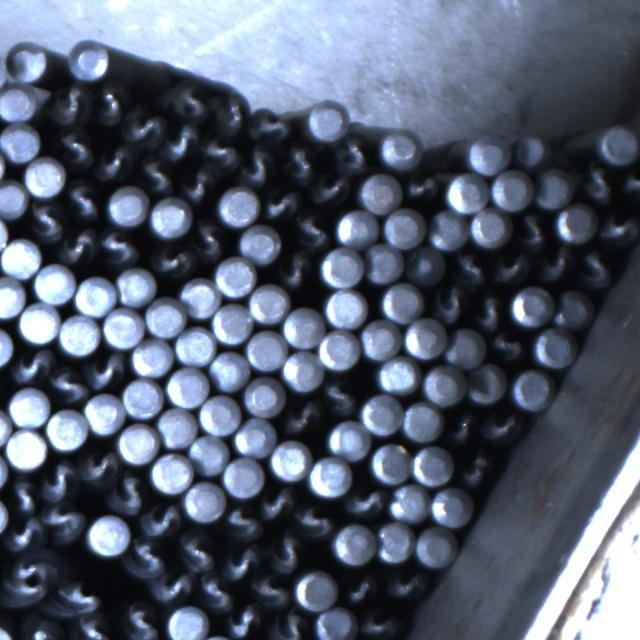tool: (305, 99, 349, 142), (377, 126, 422, 168), (87, 514, 131, 556), (358, 172, 402, 214), (33, 262, 76, 304), (69, 38, 112, 80), (6, 41, 49, 83), (424, 363, 468, 404), (360, 394, 404, 435), (310, 455, 354, 496), (326, 420, 371, 460), (75, 273, 117, 315), (146, 296, 188, 338), (511, 368, 553, 410), (411, 443, 454, 484), (281, 306, 324, 347), (166, 366, 209, 407), (150, 196, 193, 237), (332, 524, 376, 564), (466, 135, 510, 175), (23, 155, 65, 196), (60, 314, 101, 356), (510, 285, 552, 326), (430, 485, 472, 526), (369, 441, 410, 483), (17, 302, 59, 343), (250, 282, 292, 323), (404, 318, 446, 359), (182, 481, 224, 522), (223, 455, 265, 496), (383, 206, 425, 247), (47, 408, 89, 449), (490, 168, 532, 209), (296, 570, 338, 611), (319, 328, 361, 369), (362, 319, 403, 361), (381, 280, 423, 321), (151, 452, 194, 492), (445, 171, 488, 211), (321, 248, 364, 288), (325, 288, 368, 328), (102, 306, 143, 347), (218, 186, 259, 227), (403, 401, 444, 442), (444, 328, 485, 369), (84, 392, 124, 434), (598, 123, 640, 163), (216, 256, 258, 296), (9, 386, 51, 426), (374, 520, 414, 562), (118, 424, 160, 464), (239, 224, 281, 264), (387, 482, 429, 522), (534, 328, 576, 368), (335, 207, 378, 246), (233, 418, 276, 457), (123, 376, 164, 416), (282, 350, 323, 390), (7, 428, 47, 469), (107, 185, 147, 226), (199, 395, 240, 435), (270, 440, 311, 480), (247, 329, 287, 370), (555, 201, 596, 241), (189, 435, 229, 476), (156, 407, 196, 448), (416, 526, 457, 566), (425, 209, 466, 249), (131, 337, 173, 376), (116, 266, 156, 306), (244, 376, 284, 416), (211, 303, 251, 343), (364, 244, 404, 284), (0, 239, 40, 279), (0, 122, 40, 162), (180, 276, 220, 316), (378, 354, 420, 392), (209, 352, 248, 392), (471, 209, 510, 248), (174, 327, 214, 365), (533, 167, 571, 207), (166, 605, 208, 640), (315, 606, 357, 640), (0, 87, 36, 121), (516, 134, 550, 168), (0, 180, 28, 219), (0, 274, 25, 316), (0, 326, 14, 366), (0, 408, 11, 447), (0, 212, 9, 253), (0, 451, 8, 491), (0, 498, 8, 534)
tool_b: (0, 555, 50, 607), (44, 83, 91, 126), (124, 538, 167, 580), (40, 502, 83, 544), (551, 289, 594, 330), (208, 86, 248, 130), (96, 226, 139, 266), (56, 578, 102, 615), (199, 131, 240, 172), (39, 460, 78, 503), (0, 517, 43, 556), (577, 249, 617, 290), (172, 78, 212, 119), (122, 106, 164, 145), (177, 529, 216, 571), (291, 502, 334, 540), (138, 154, 176, 197), (56, 126, 94, 169), (64, 178, 102, 220), (596, 208, 638, 246), (577, 162, 615, 204), (267, 533, 305, 575), (478, 409, 522, 445), (50, 365, 90, 404), (79, 448, 119, 487), (224, 504, 264, 542), (26, 200, 64, 240), (278, 252, 316, 292), (310, 170, 351, 207), (250, 107, 291, 144), (280, 142, 316, 184), (151, 569, 193, 605), (294, 210, 332, 249), (58, 226, 97, 264), (196, 571, 234, 610), (282, 398, 320, 437), (86, 351, 126, 388), (138, 503, 179, 539), (110, 473, 146, 514), (193, 220, 227, 263), (383, 570, 426, 604), (336, 135, 374, 173), (222, 542, 260, 580), (123, 600, 160, 639), (11, 347, 50, 384), (490, 250, 530, 286), (162, 122, 198, 162), (514, 212, 551, 250), (458, 448, 495, 486), (94, 146, 132, 183), (534, 248, 572, 285), (488, 328, 527, 364), (252, 573, 292, 608), (242, 143, 276, 184), (92, 83, 126, 124), (321, 378, 357, 416), (226, 602, 263, 638), (473, 292, 508, 330), (432, 284, 467, 322), (154, 244, 193, 278), (344, 485, 384, 518), (357, 609, 399, 640), (452, 251, 488, 287), (182, 165, 217, 202), (269, 612, 312, 640), (342, 572, 377, 606), (262, 188, 298, 221), (260, 487, 296, 520), (405, 169, 441, 202), (446, 409, 478, 444), (10, 479, 39, 516), (20, 617, 64, 640), (73, 616, 112, 640), (621, 167, 640, 203)
